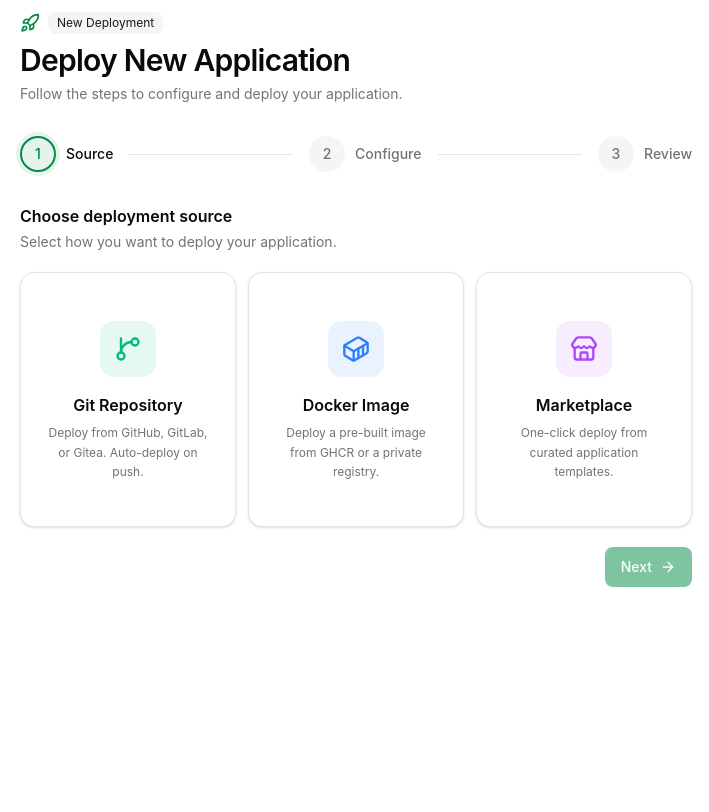
Scenario: DeployWizard page › advances to step 2 after selecting a source and clicking Next
Click the text "Git Repository" at (128, 405), box left=73, top=395, right=183, bottom=415
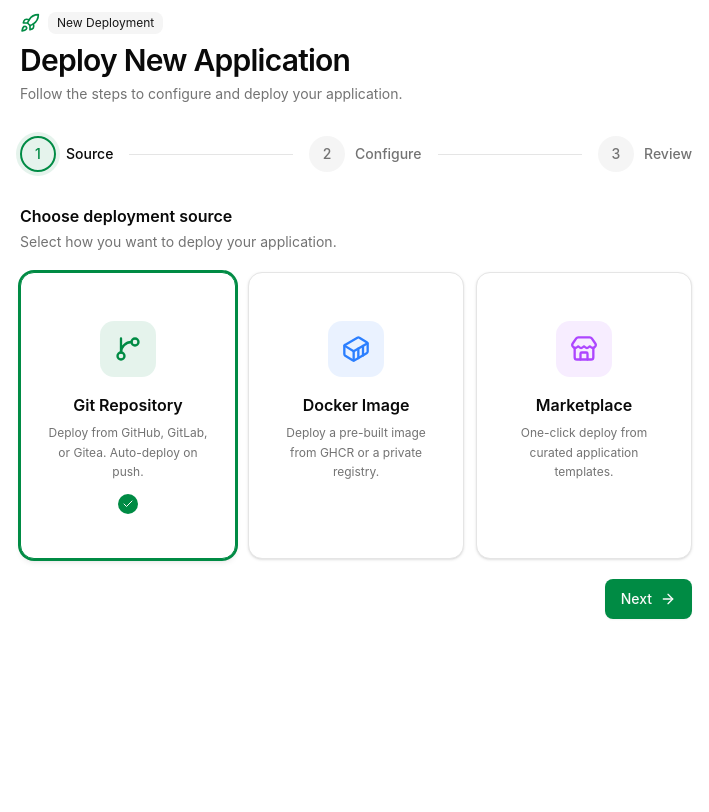
Check: the button "Next" is enabled
Click the button "Next" at (648, 598), box left=605, top=578, right=692, bottom=618
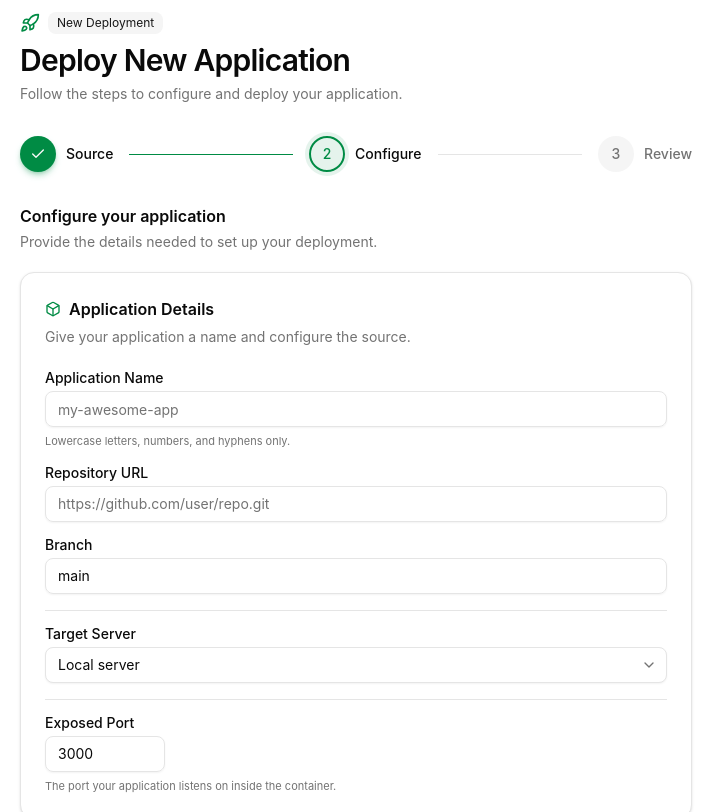
Check: the heading "Configure your application" is shown, box left=20, top=206, right=226, bottom=226
Check: the field labelled "Application Name" is shown, box left=45, top=391, right=667, bottom=427
Check: the field labelled "Repository URL" is shown, box left=45, top=486, right=667, bottom=522
